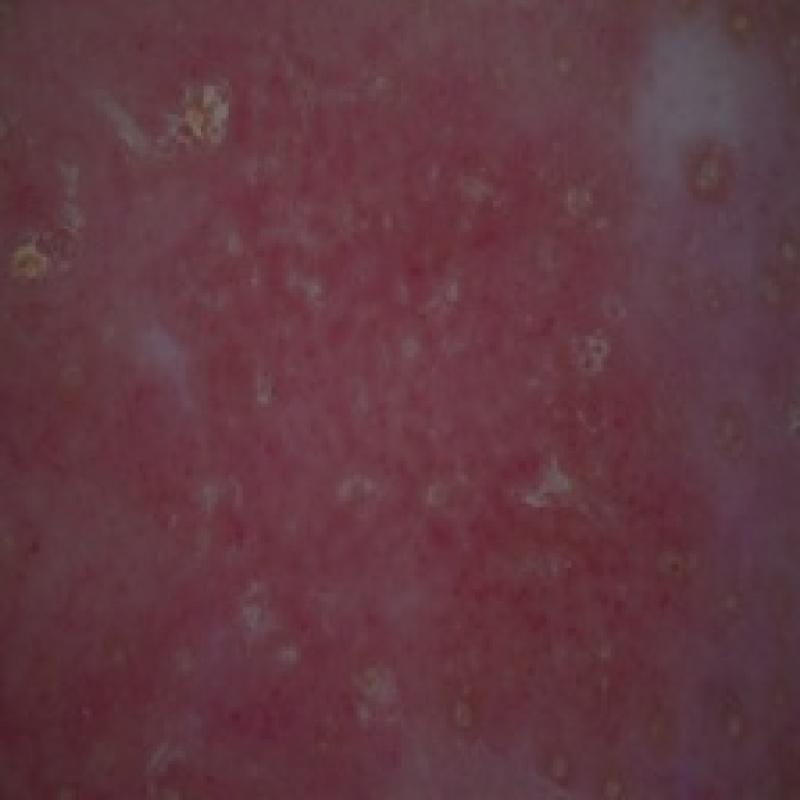malignant: (388, 109, 764, 416), (121, 59, 264, 204), (0, 164, 111, 325)
